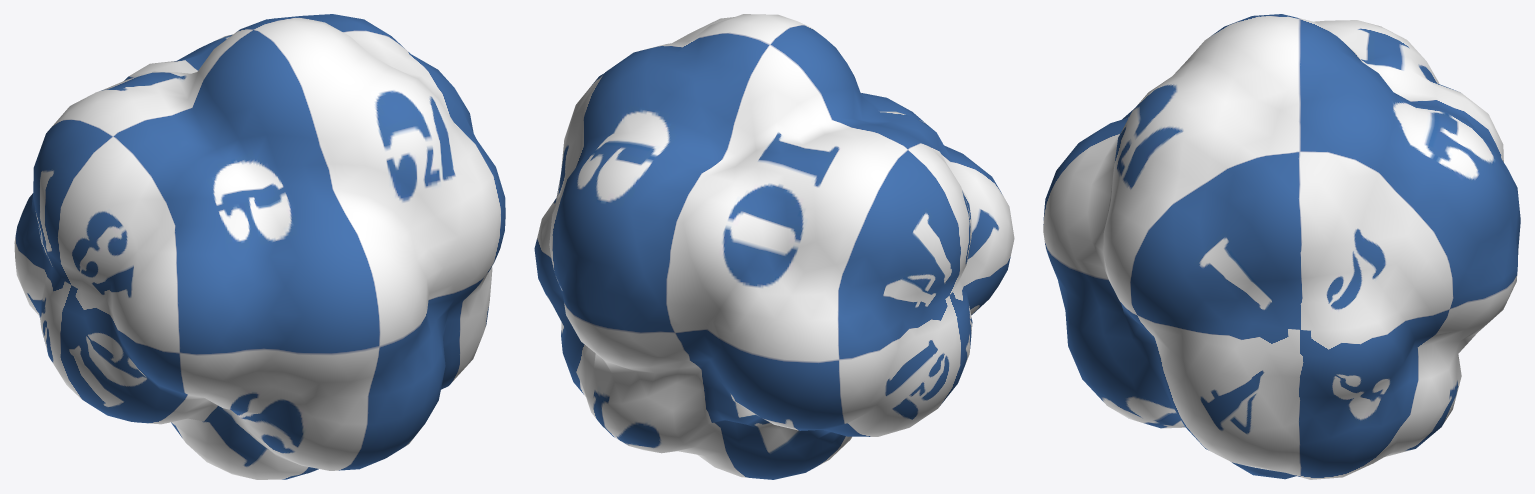
Rendered from Smoke3.fbx.
3 renders of one model, left to right at view 1: azimuth 30°, elevation 25°; view 2: azimuth 150°, elevation 25°; view 3: azimuth 270°, elevation 25°, orthographic.
Parts seen in each view (by area): view 1: SM_e_cmn_Smoke003; view 2: SM_e_cmn_Smoke003; view 3: SM_e_cmn_Smoke003.
Boxes of the visible parts, box(x1,y1,x2,y2) form: SM_e_cmn_Smoke003: box(14, 14, 505, 479); SM_e_cmn_Smoke003: box(534, 14, 1014, 479); SM_e_cmn_Smoke003: box(1043, 14, 1520, 479).
Bounding box in the file's own units: 72.3 × 74.79 × 72.65.
